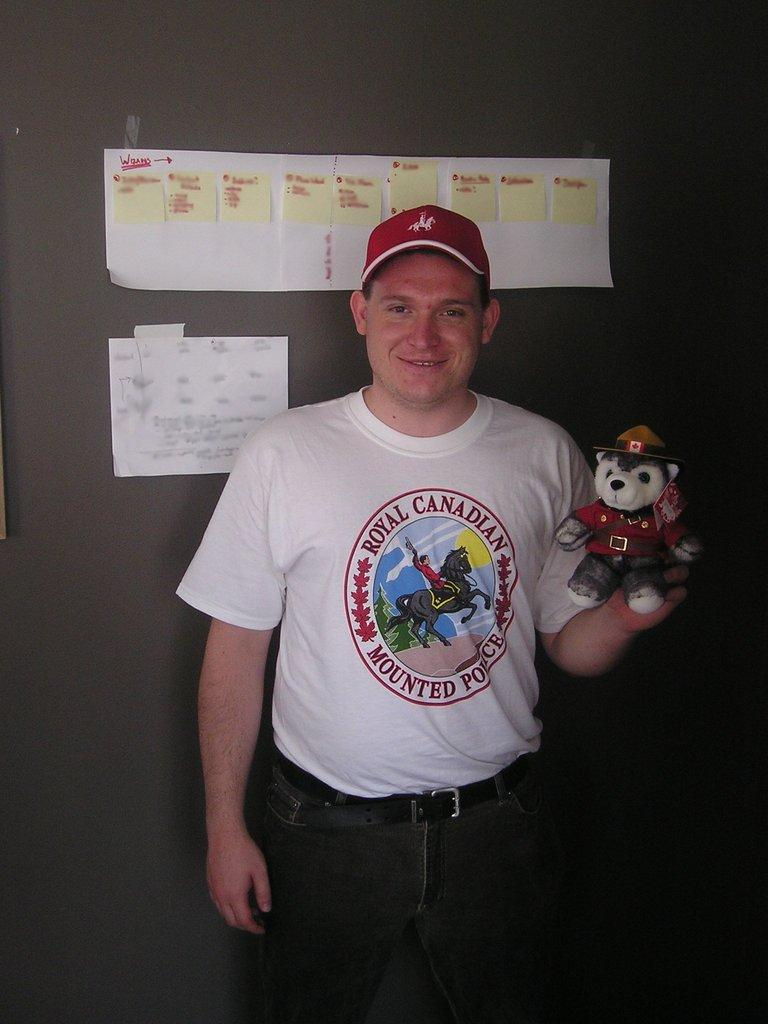Hat: (351, 202, 498, 294)
